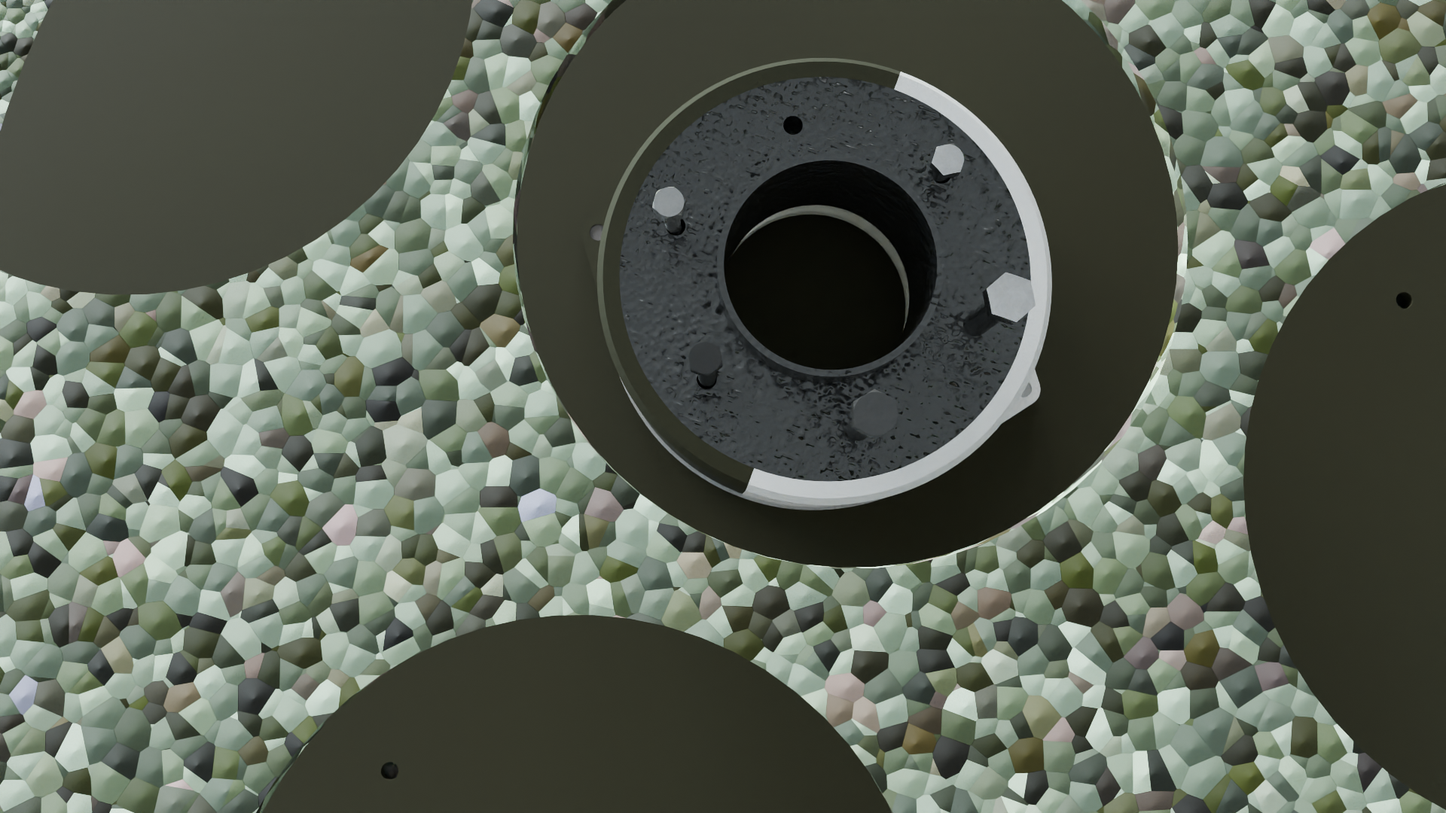bolt: (987, 273, 1036, 322), (853, 389, 898, 439), (688, 340, 722, 376), (652, 187, 686, 220), (932, 143, 966, 175)
